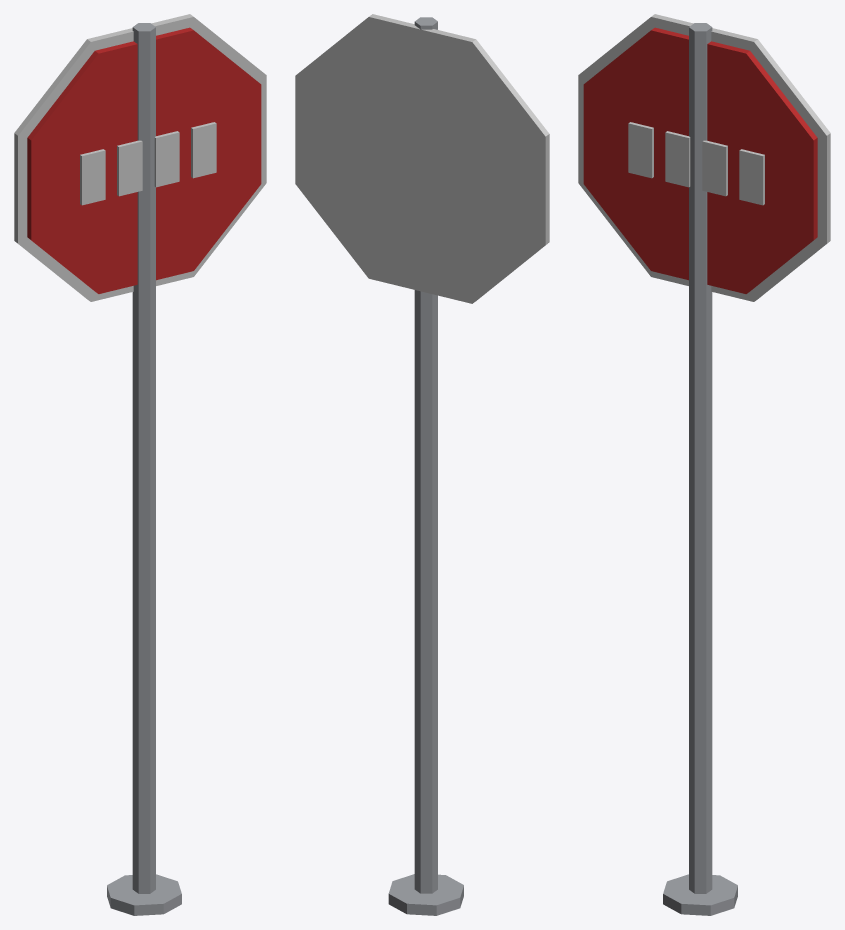
File: objet_panneau_stop.glb
The picture shows the model from 3 angles, left to right: view 1: azimuth 30°, elevation 25°; view 2: azimuth 150°, elevation 25°; view 3: azimuth 330°, elevation 25°; orthographic projection.
Parts seen in each view (by area): view 1: objet_panneau_stop; view 2: objet_panneau_stop; view 3: objet_panneau_stop.
Boxes of the visible parts, x1=… form: objet_panneau_stop: x1=14, y1=14, x2=266, y2=915; objet_panneau_stop: x1=295, y1=14, x2=549, y2=915; objet_panneau_stop: x1=578, y1=14, x2=830, y2=915.
Bounding box in the file's own units: 0.7391 × 2.48 × 0.2.
